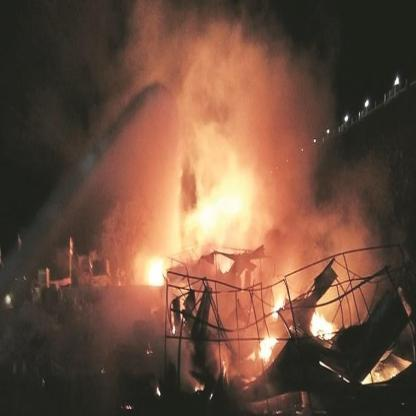fire: (171, 149, 261, 264), (309, 307, 337, 344), (247, 333, 280, 364), (141, 252, 168, 289), (270, 290, 287, 321), (362, 368, 378, 386)
